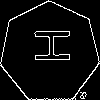H: (25, 27, 70, 64)
